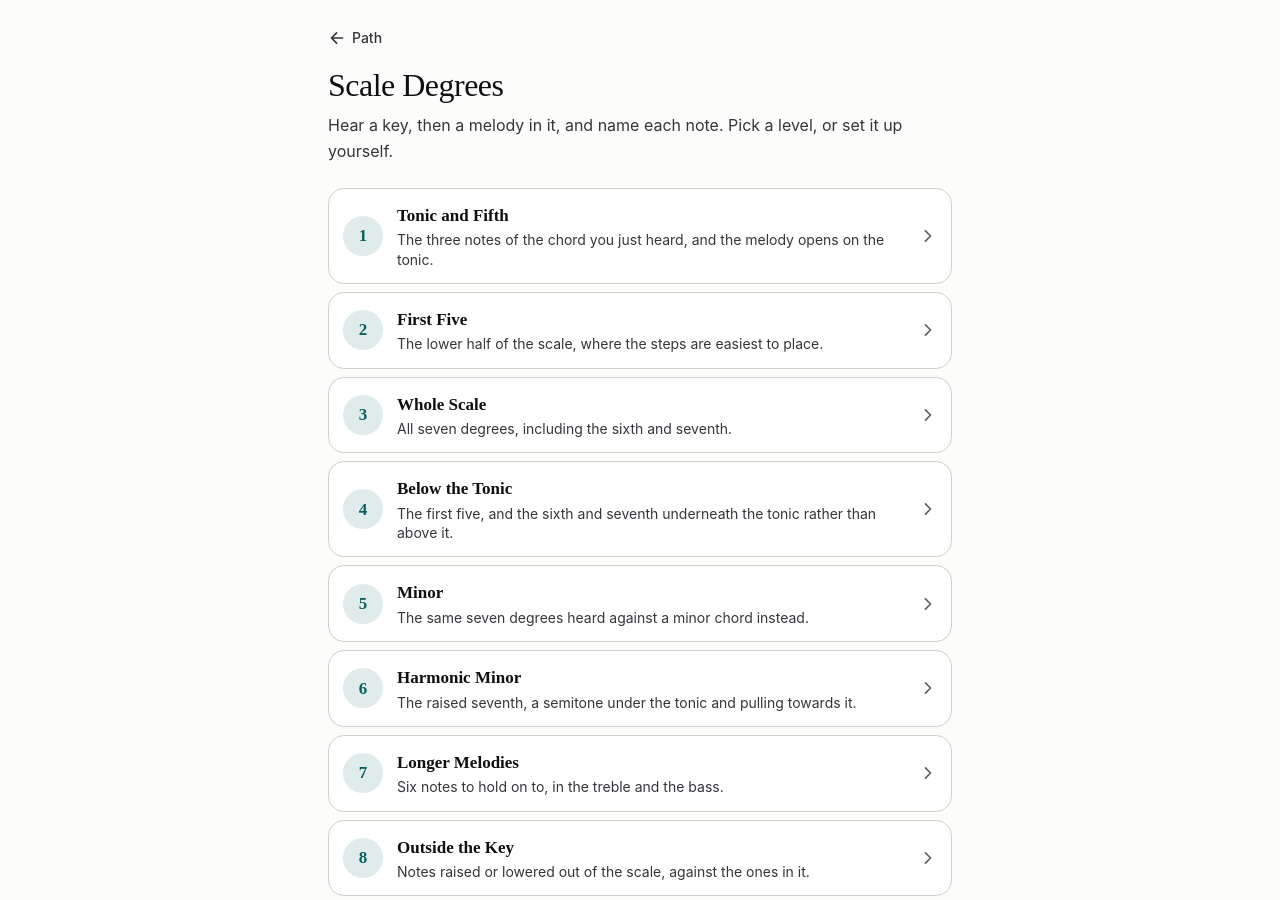
Test: Scale Degrees › starts a round from a level, in the same tap
This screenshot has width=1280, height=900.
Click the text "First Five".
click(432, 319)  # box x1=397 y1=310 x2=467 y2=329
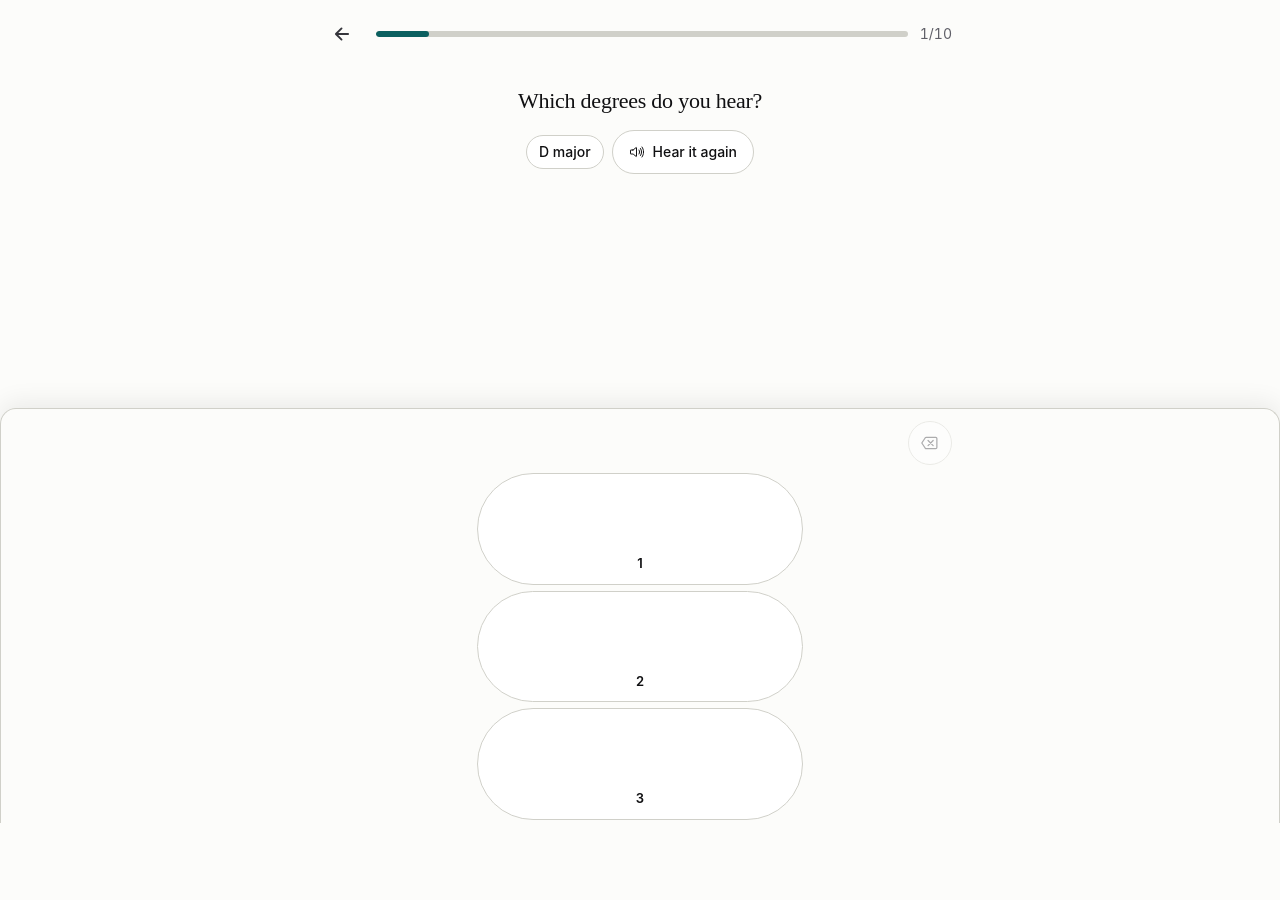
expect the heading "Which degrees do you hear?" is shown: met, box x1=518 y1=88 x2=762 y2=114
